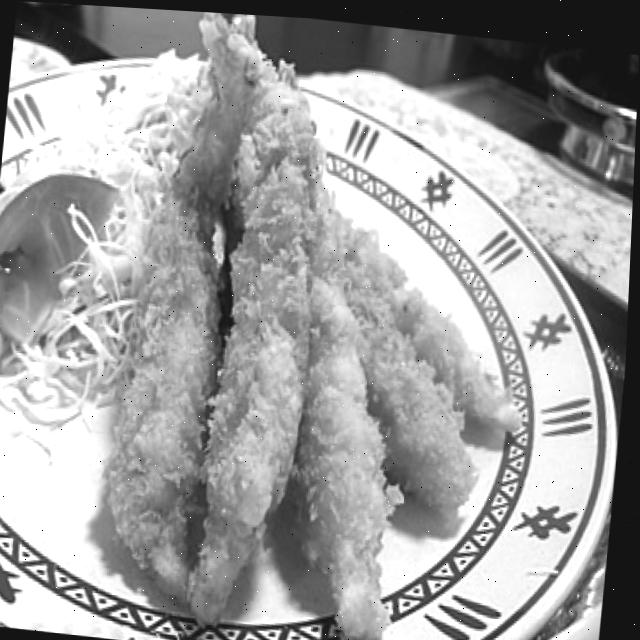炸货点心: (107, 6, 564, 640)
熟制海鲜: (107, 6, 564, 640)
